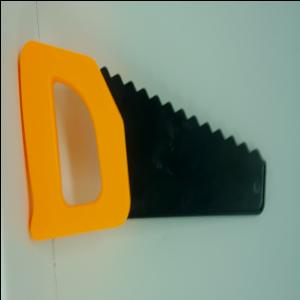serrote: (17, 39, 267, 241)
